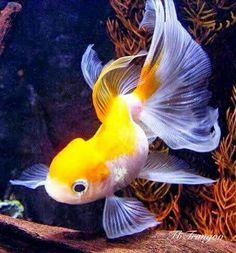goldfish: (43, 106, 157, 211)
